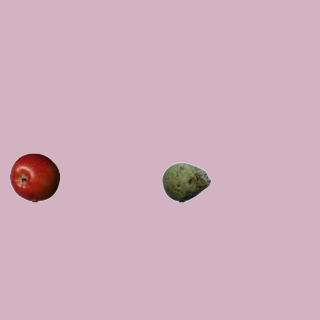Apple Braeburn: (9, 152, 59, 202)
Pear Stone: (161, 157, 211, 207)
